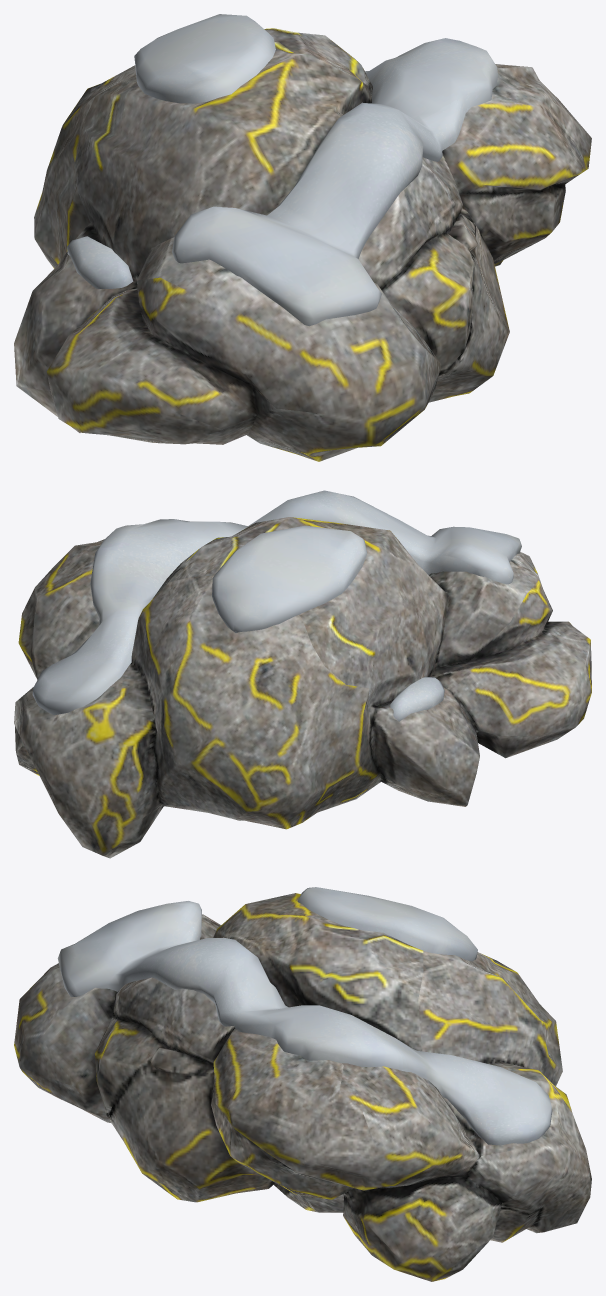
File: mine_metalmine_polar_round_snow.glb
3 views of the same model, one above another, from view 1: azimuth 30°, elevation 25°; view 2: azimuth 150°, elevation 25°; view 3: azimuth 270°, elevation 25° (orthographic). The views are drawn at different scales.
Parts seen in each view (by area): view 1: mine_metalmine_polar_round_snow_part0, mine_metalmine_polar_round_snow_part1; view 2: mine_metalmine_polar_round_snow_part0, mine_metalmine_polar_round_snow_part1; view 3: mine_metalmine_polar_round_snow_part0, mine_metalmine_polar_round_snow_part1.
Boxes of the visible parts, <box> form: mine_metalmine_polar_round_snow_part0: <box>14,28,591,461</box>; mine_metalmine_polar_round_snow_part1: <box>67,14,497,326</box>; mine_metalmine_polar_round_snow_part0: <box>14,517,591,858</box>; mine_metalmine_polar_round_snow_part1: <box>32,490,521,721</box>; mine_metalmine_polar_round_snow_part0: <box>14,893,591,1281</box>; mine_metalmine_polar_round_snow_part1: <box>57,887,552,1145</box>.
Size of the model in its own units: 3.96 by 2.2 by 4.08.
Materials: 2 (2 with a texture image).
